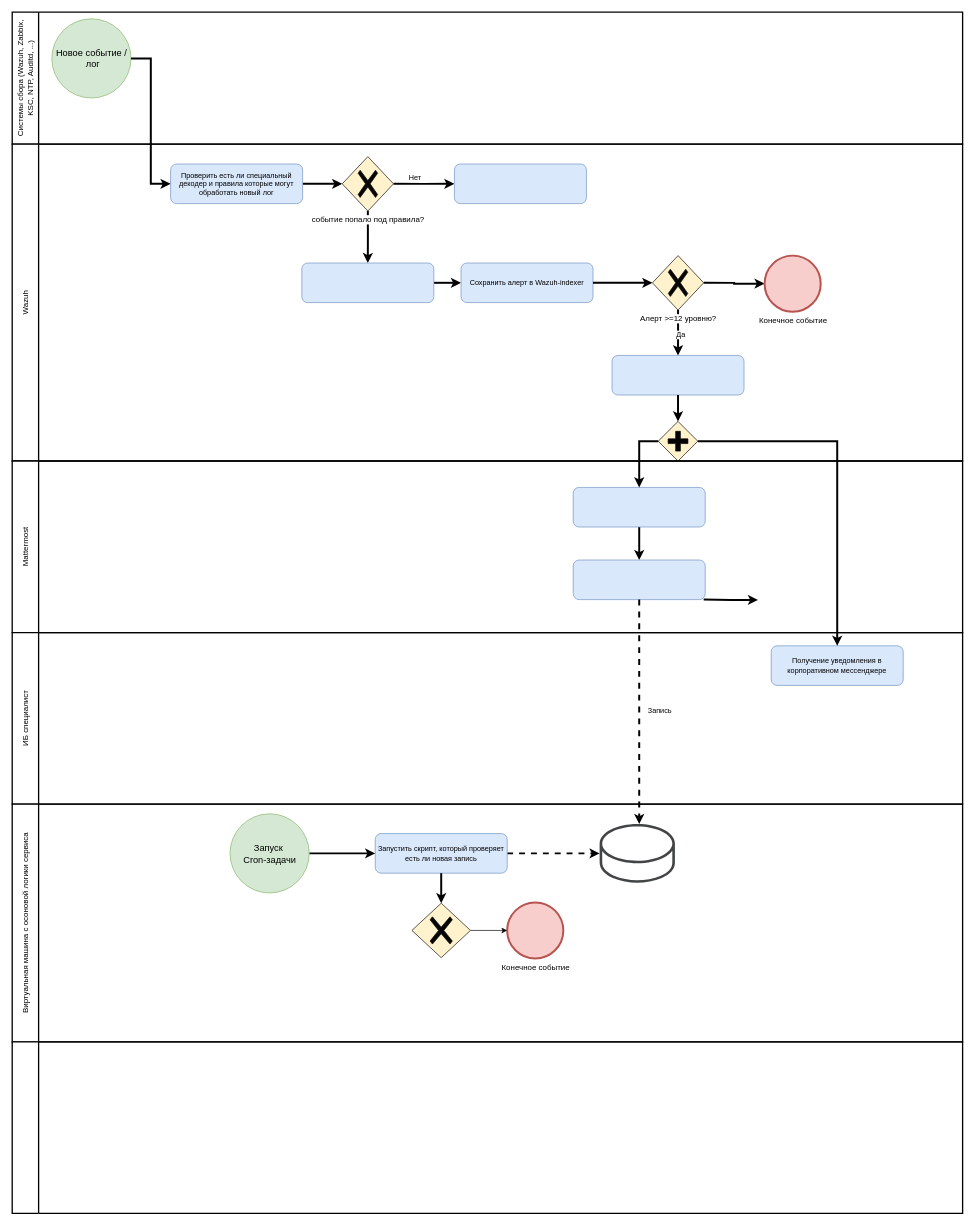
Some shapes in this 974 by 1225 pixel diagram are drawn without their labels. Here are the shapes that lost their labels. From the top down, the centre of each, then its label:
the point at 520,183: Записать событие / лог в архив всех событий
the point at 367,282: Сформировать и обогатить новое событие
the point at 677,375: Запустить встроенный скрипт по отправке уведомлений в мессенджер
the point at 639,507: Запуск внутреннего Webhook на отслеживание новых сообщений в определенном чате
the point at 639,579: Запуск внутреннего скрипта, записывающего в БД очередь для новых заявок
the point at 637,853: База данных для событий
the point at 441,930: Запись есть?
the point at 487,1127: Сторонние сервисы (KSC, Zabbix, VaultWarden, ...)
